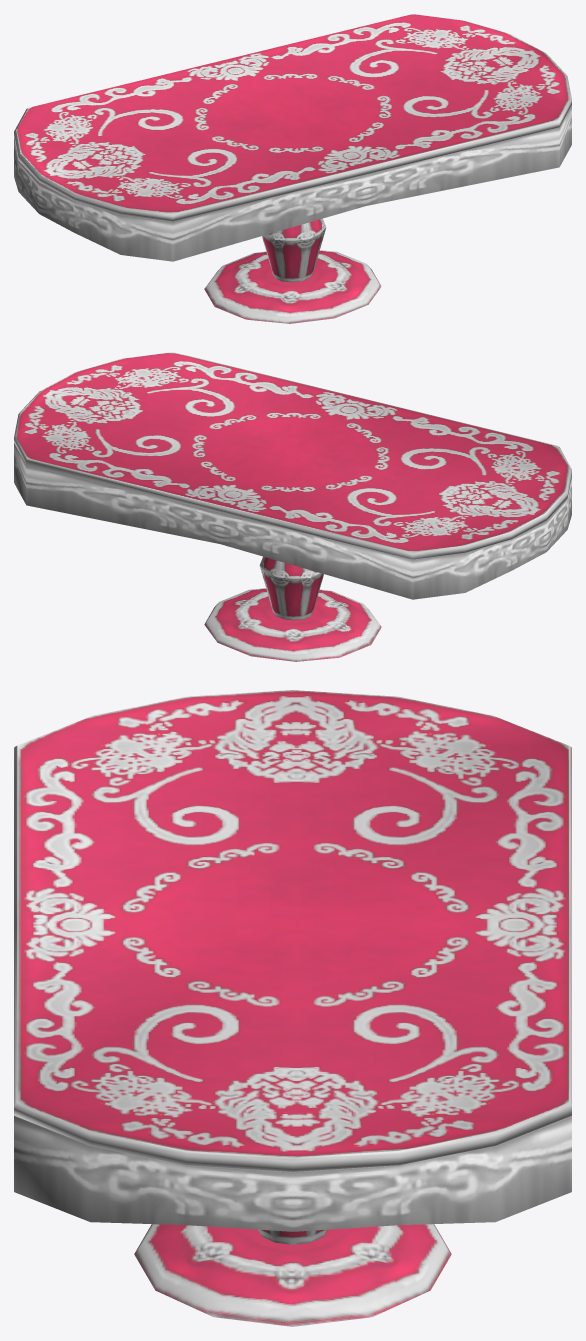
The model's file is QueenDiningTable_HD.fbx.
3 views of the same model, one above another, from view 1: azimuth 30°, elevation 25°; view 2: azimuth 150°, elevation 25°; view 3: azimuth 270°, elevation 25° (orthographic). The views are drawn at different scales.
Visible parts, largest first — view 1: QueenDiningTable; view 2: QueenDiningTable; view 3: QueenDiningTable.
Part boxes in pixels (left/top/right/bottom): QueenDiningTable: left=14, top=14, right=571, bottom=323; QueenDiningTable: left=14, top=352, right=571, bottom=661; QueenDiningTable: left=14, top=690, right=571, bottom=1326.
Bounding box in the file's own units: 1.84 × 0.6027 × 0.9222.
